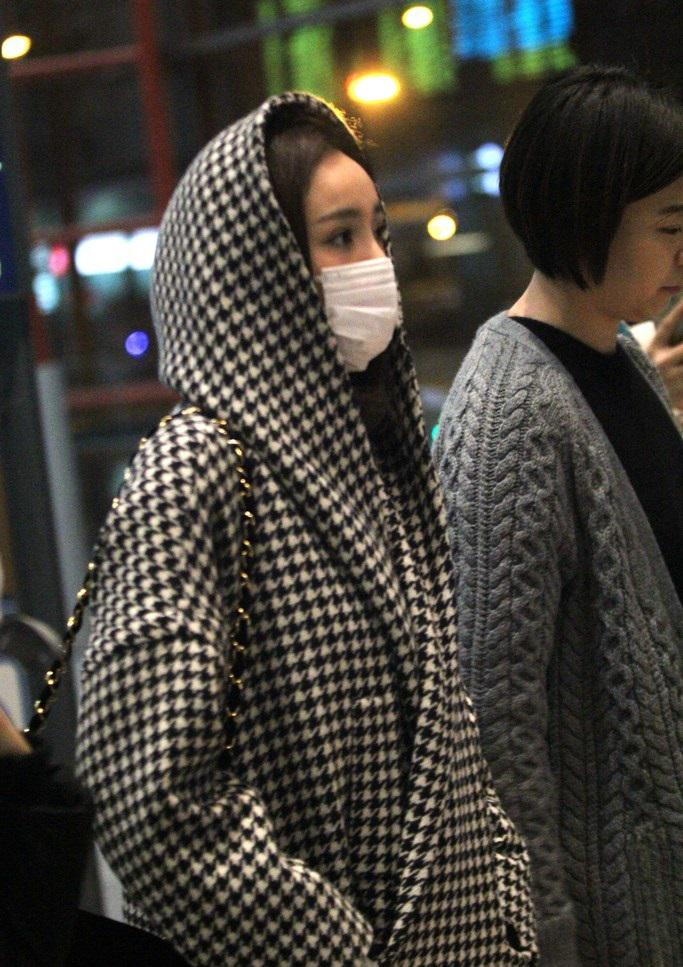NONE: (604, 181, 683, 334)
OK: (281, 185, 405, 369)
